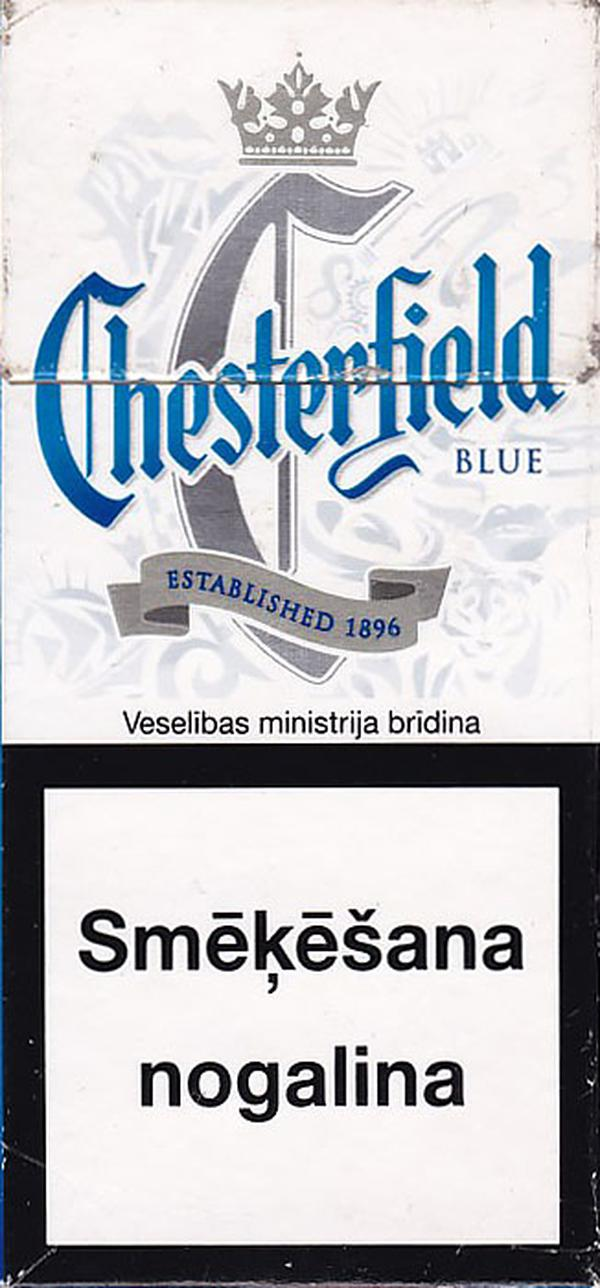chesterfield_blue: (1, 3, 600, 742)
